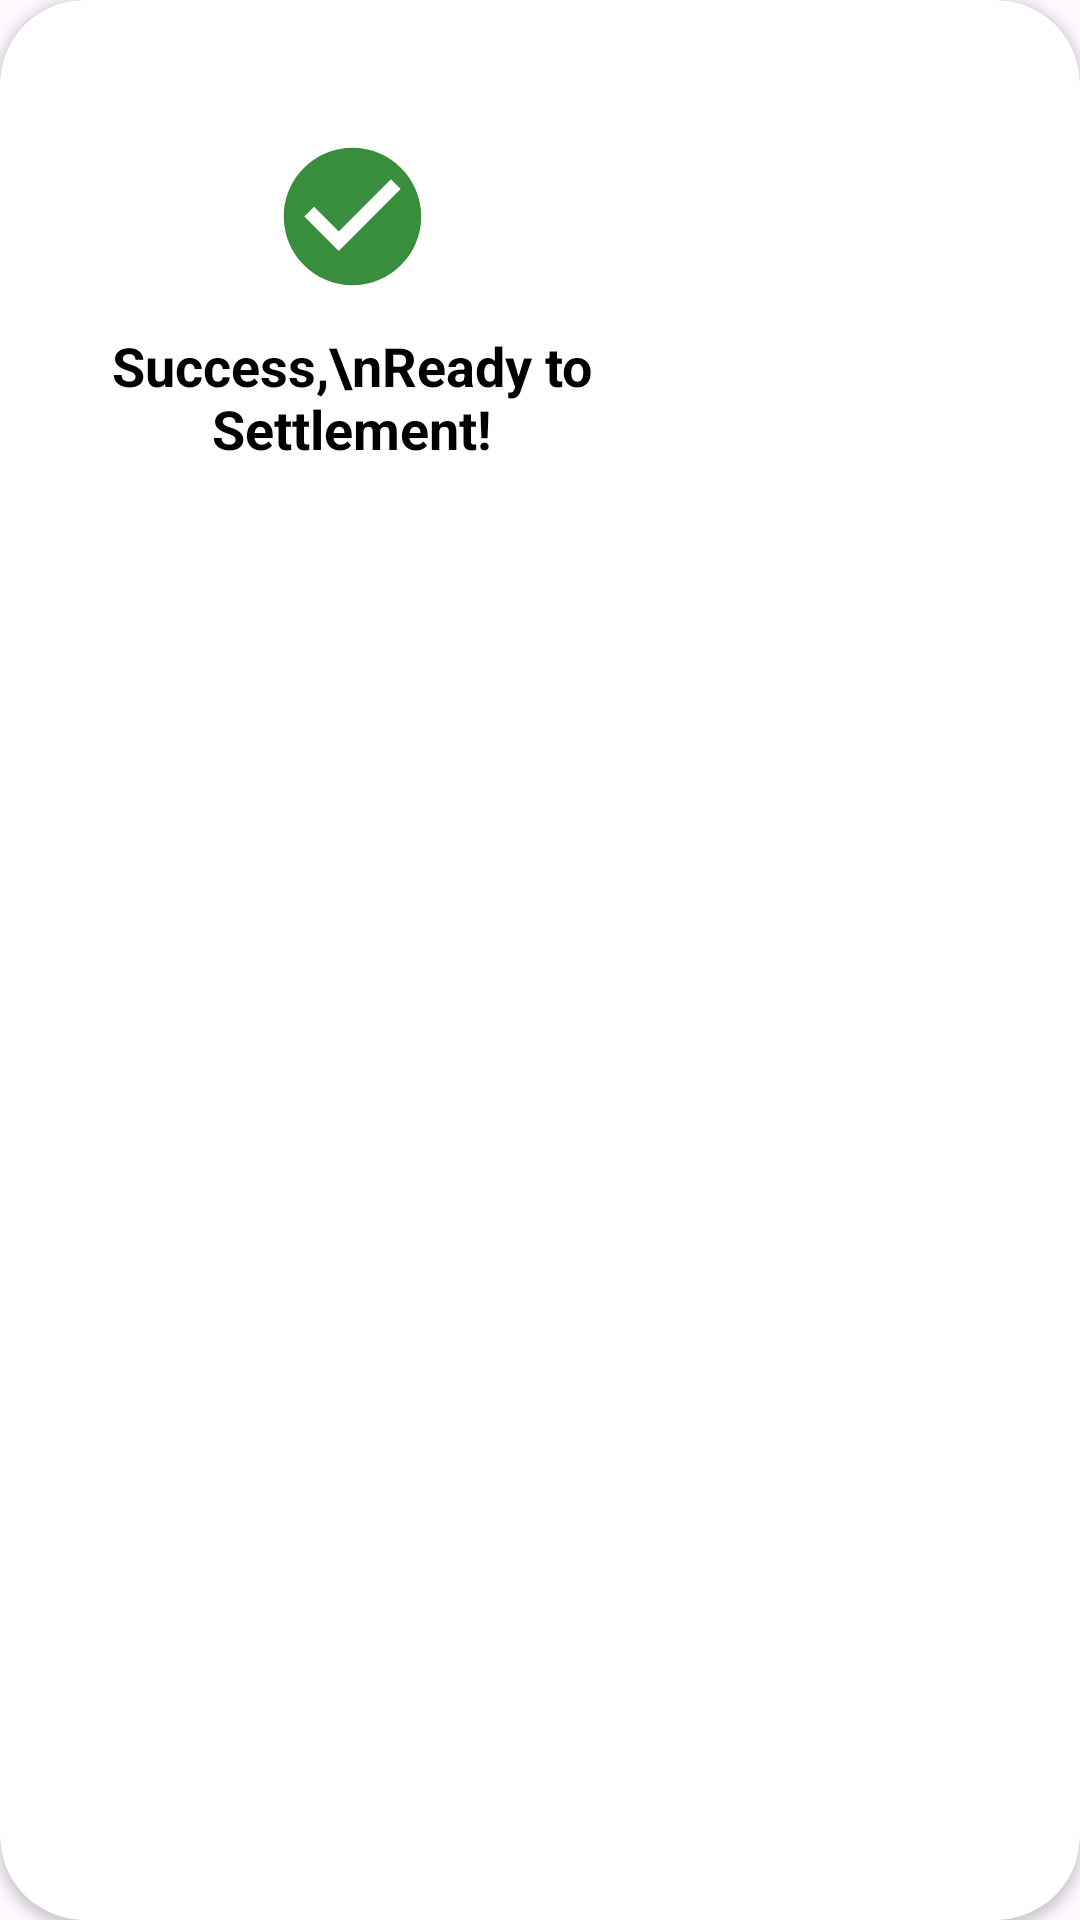

Named icons in this screenshot (1080x1920) and their centers, (x=x, y=y):
check circle: (x=352, y=216)
